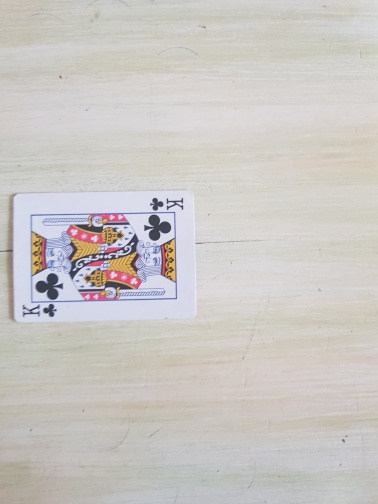king: (11, 190, 199, 323)
